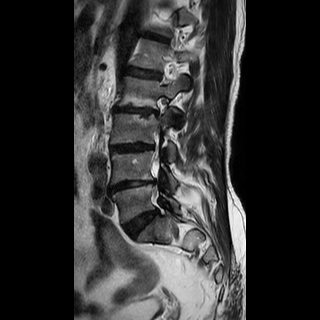RFS0: (148, 91, 173, 122)
